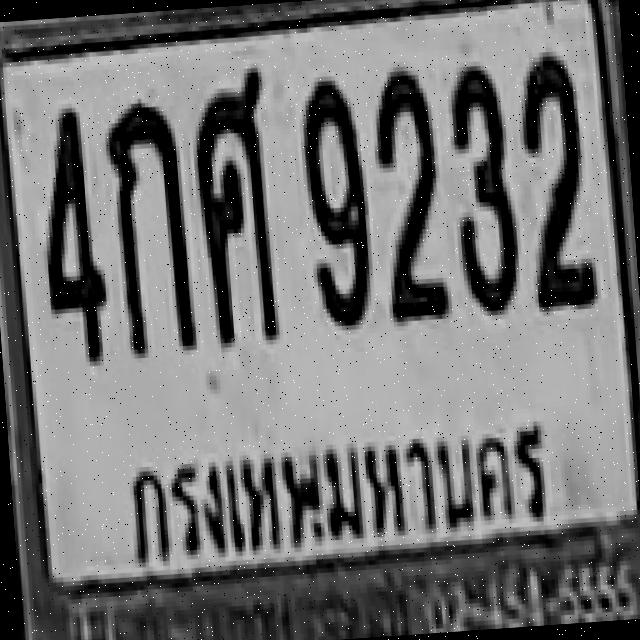10GorGai: (101, 98, 195, 357)
2: (369, 62, 449, 324), (514, 50, 594, 312), (517, 66, 596, 310), (372, 74, 448, 322)
3: (444, 60, 522, 316)
4: (34, 102, 110, 364)
47SorSala: (188, 67, 280, 344)
9: (296, 72, 372, 329)
Bangkok: (115, 416, 562, 582)
